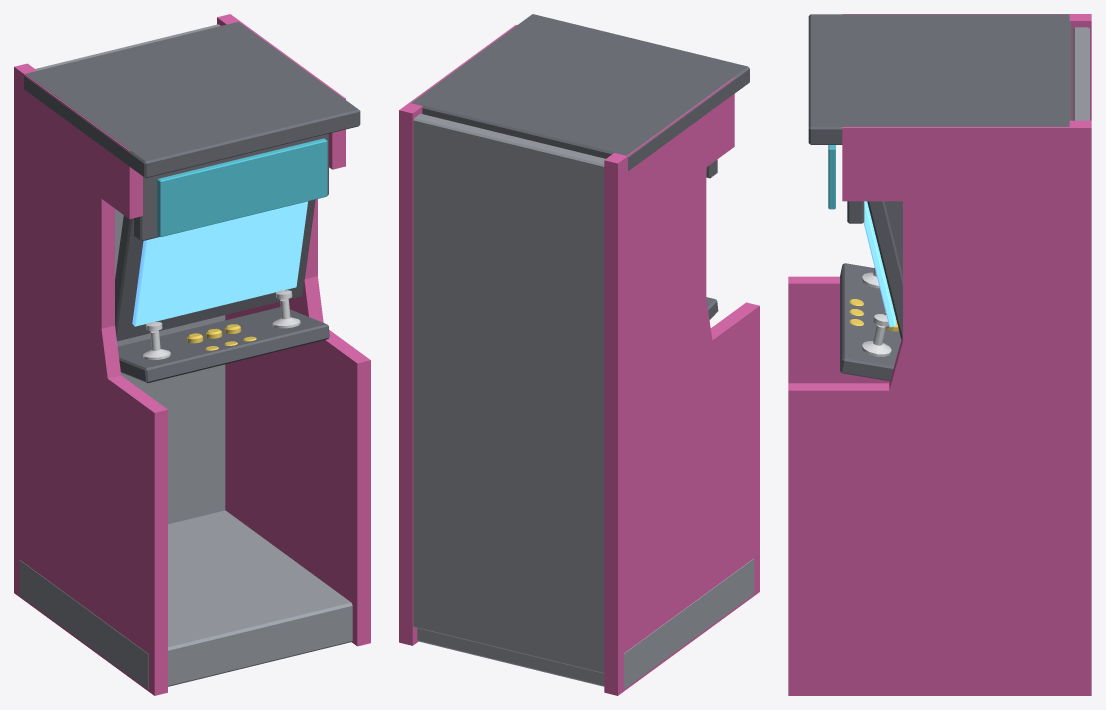
Rendered from laser-tag-arena-and-activity-centre-arcade-cabinet-b92828bb__34501.glb.
3 views of the same model, side by side, from view 1: azimuth 30°, elevation 25°; view 2: azimuth 150°, elevation 25°; view 3: azimuth 270°, elevation 25° (orthographic). The views are drawn at different scales.
Parts seen in each view (by area): view 1: arcade-cabinet; view 2: arcade-cabinet; view 3: arcade-cabinet.
Part boxes in pixels (x1,y1,x2,y2): arcade-cabinet: [14, 14, 370, 695]; arcade-cabinet: [399, 14, 759, 695]; arcade-cabinet: [788, 14, 1091, 695].
Bounding box in the file's own units: 0.8012 × 1.86 × 0.8999.
